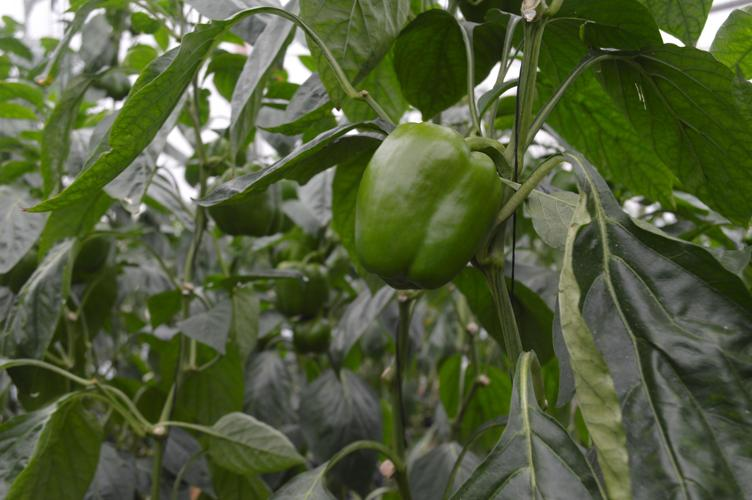BellPepper: (351, 122, 502, 286), (204, 162, 286, 241), (274, 263, 329, 313), (291, 319, 330, 354)
